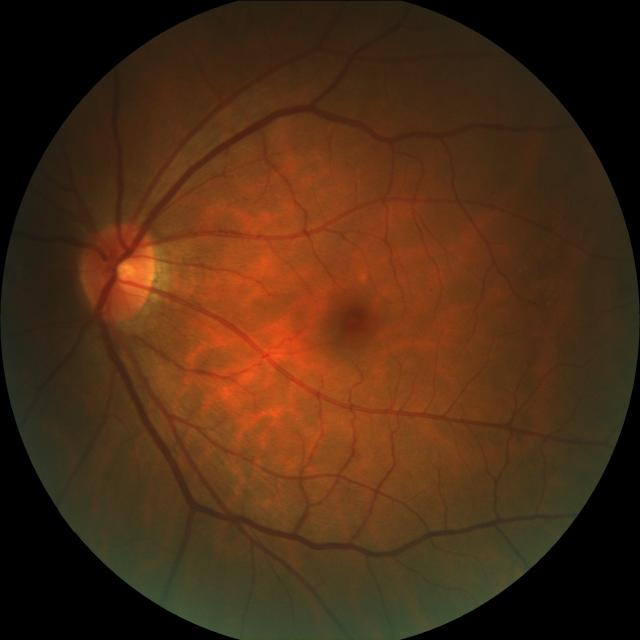OC: (102, 249, 144, 292)
OD: (81, 220, 159, 320)
